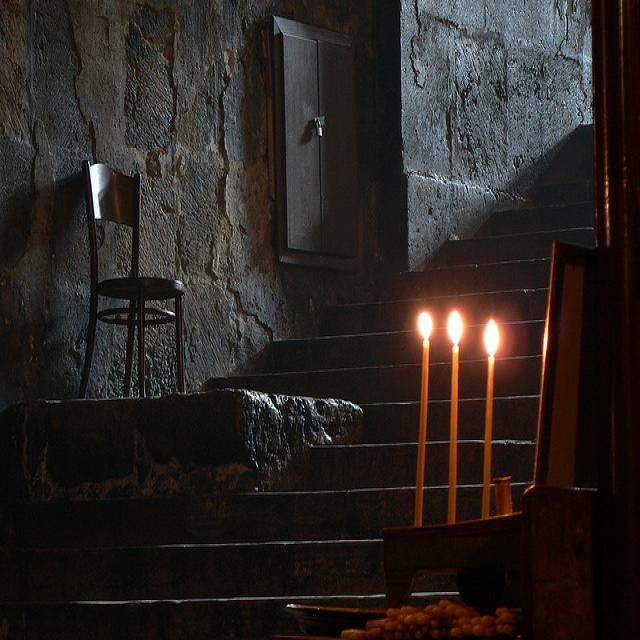Table: (372, 444, 633, 640)
chair: (68, 154, 194, 402)
